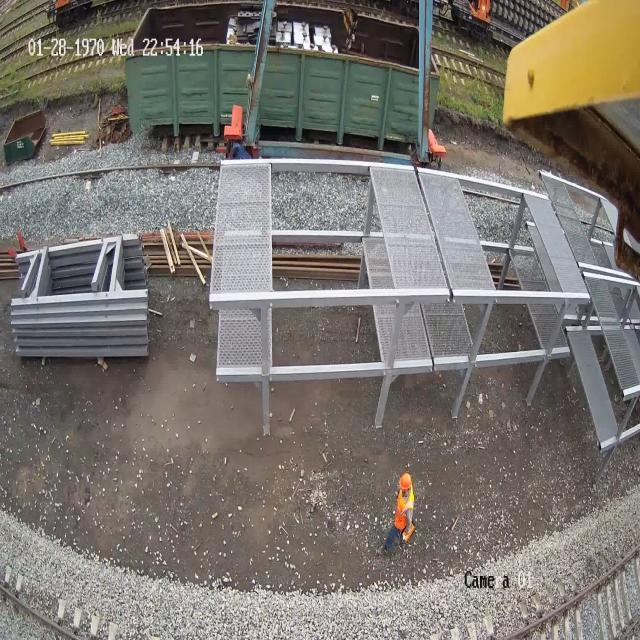Helmet: (399, 472, 412, 492)
Person: (384, 472, 414, 553)
